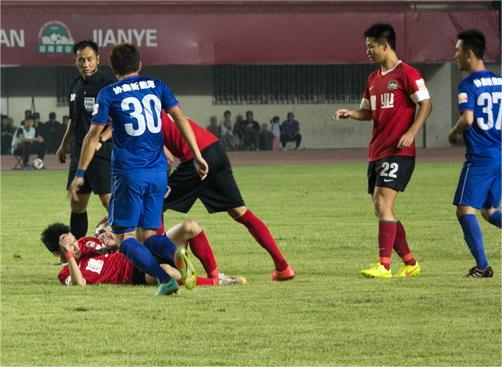bending: (150, 108, 286, 278)
down: (28, 219, 265, 297)
up: (330, 19, 449, 295), (81, 43, 206, 296), (446, 28, 502, 287), (58, 36, 119, 241)
